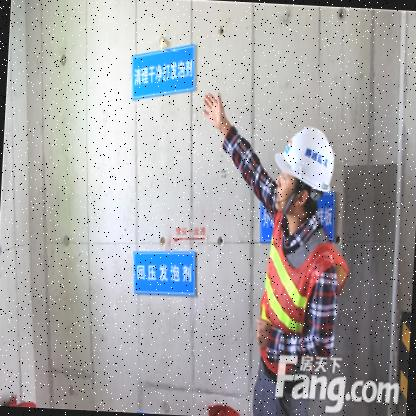capacete: (269, 120, 338, 218)
colete_refletivo: (253, 210, 345, 394)
